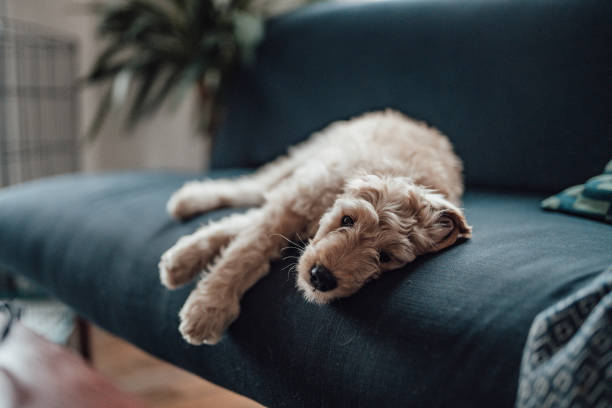dog: (133, 101, 500, 363)
